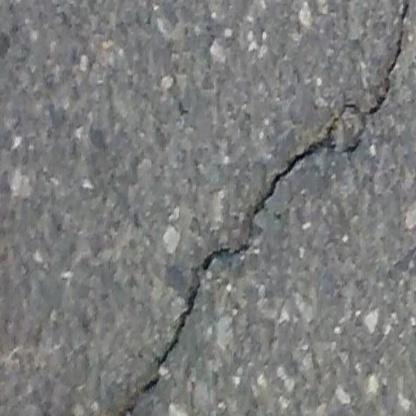Cracks: (102, 0, 416, 416)
